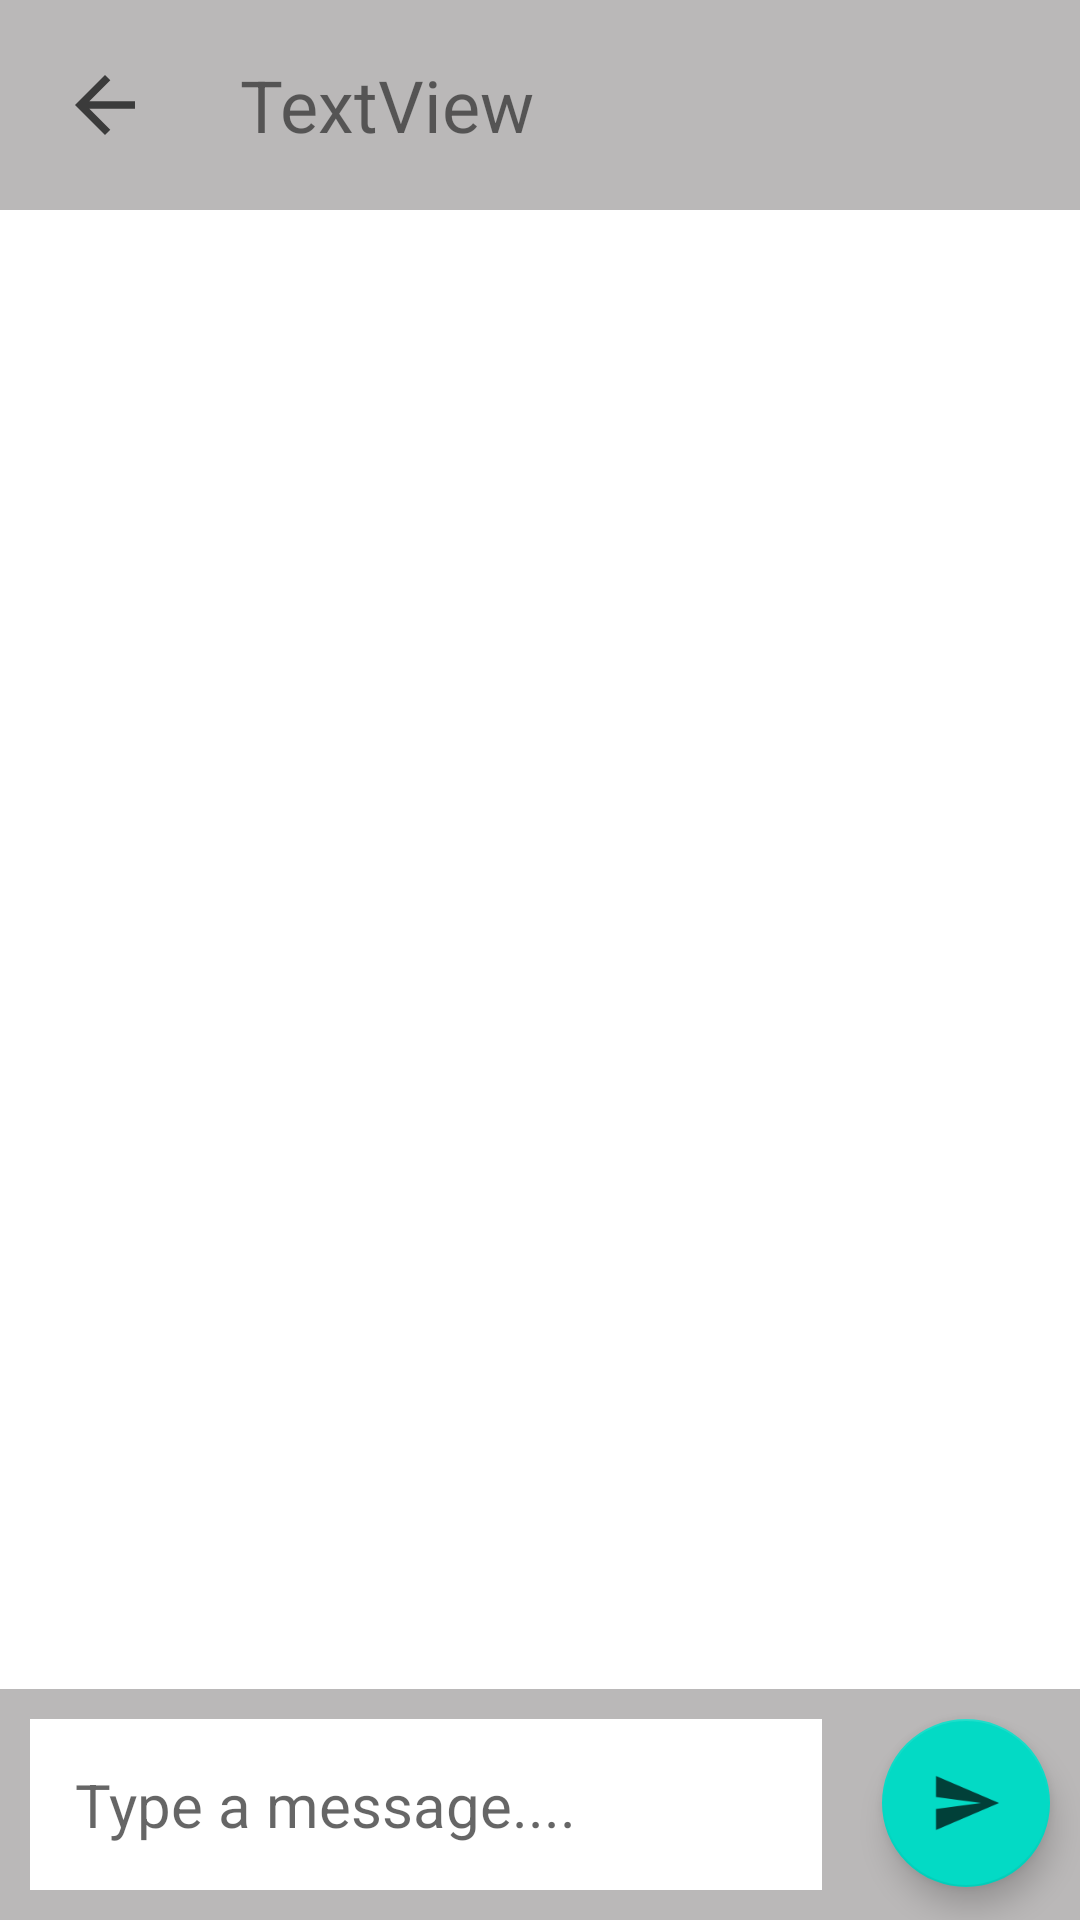

Where icons sit on this 1080px x 1920px app screen, as [x1, y1, x2, y2]:
arrow back: [75, 75, 135, 135]
send: [882, 1719, 1050, 1887]
